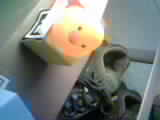duck: (43, 4, 103, 58)
